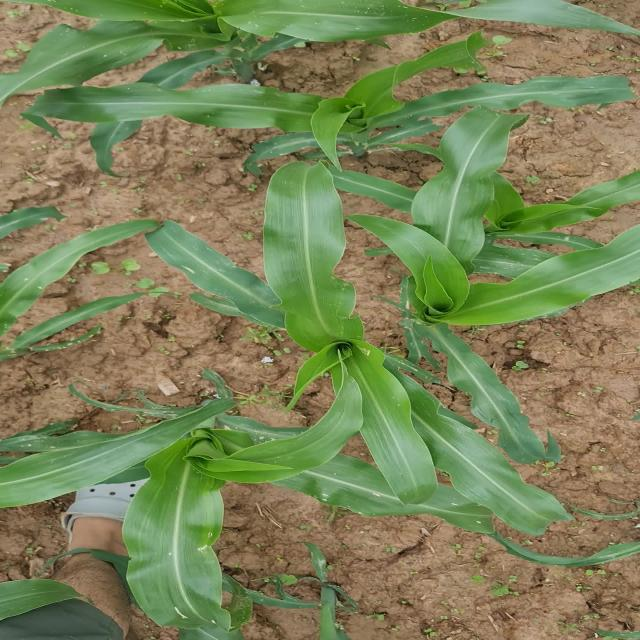maize: (145, 183, 553, 499), (69, 58, 640, 145), (8, 392, 370, 510), (29, 0, 640, 58), (0, 178, 123, 374)
